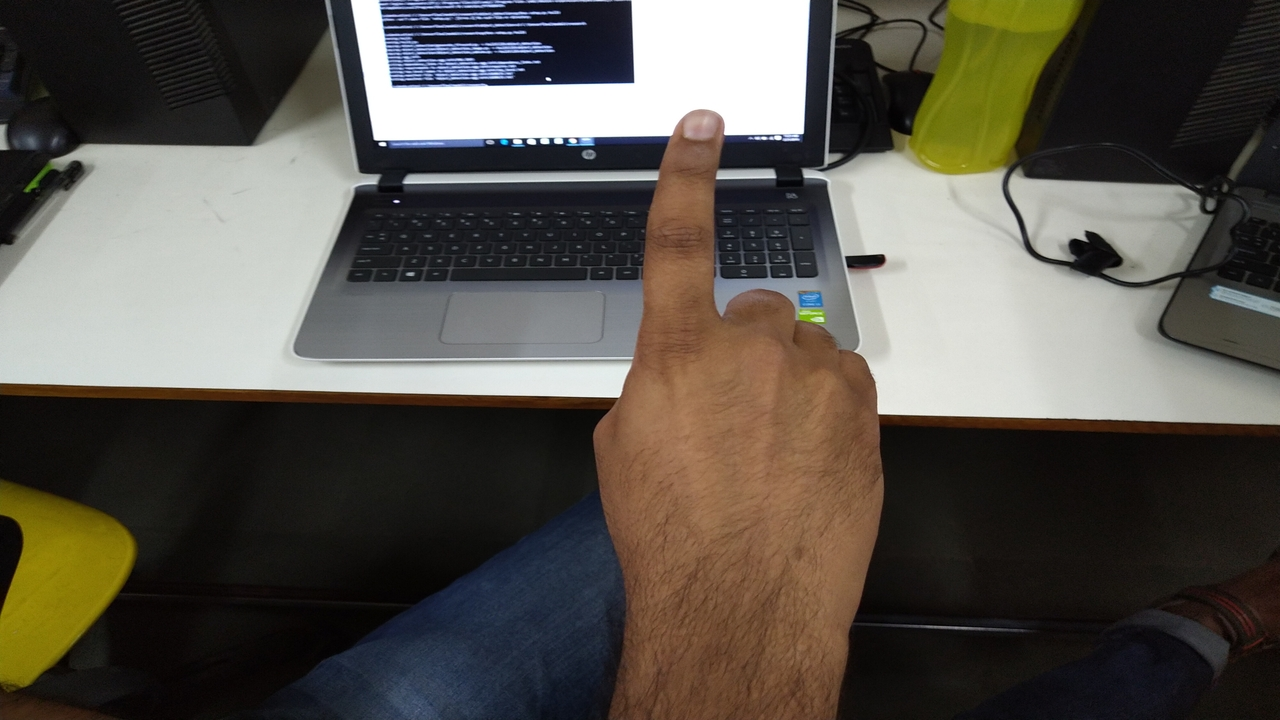fingertip: (666, 104, 728, 152)
